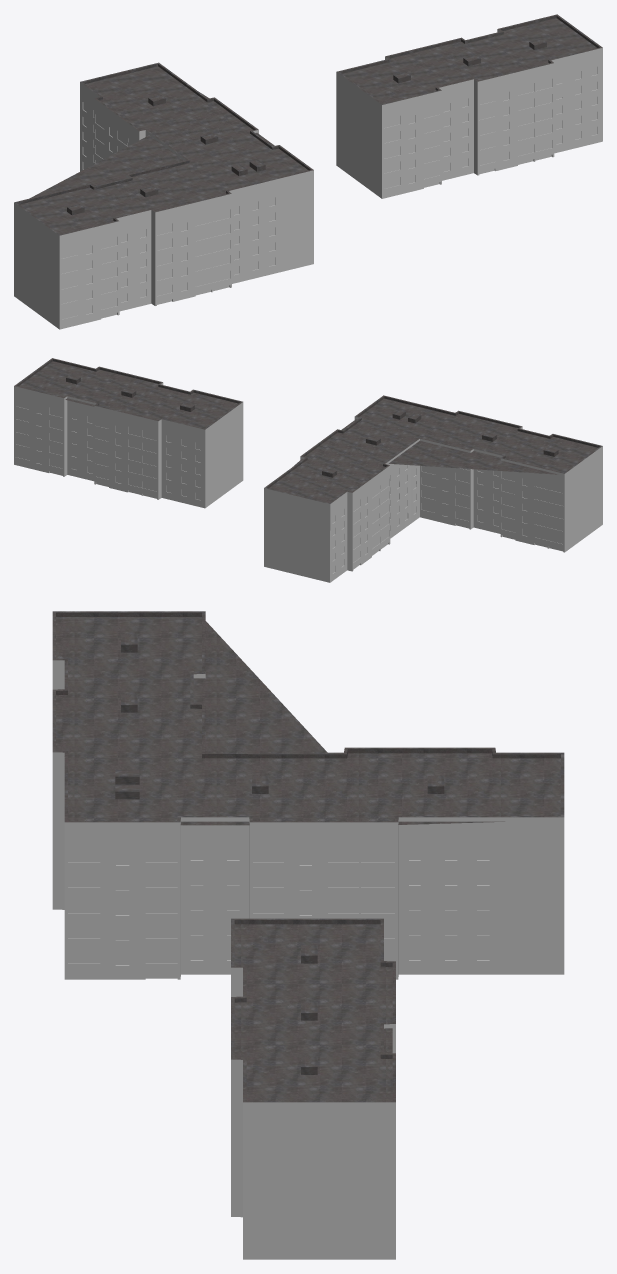
Rendered from panelkaslow.obj.
The picture shows the model from 3 angles, top to bottom: view 1: azimuth 30°, elevation 25°; view 2: azimuth 150°, elevation 25°; view 3: azimuth 270°, elevation 25°; orthographic projection. The views are drawn at different scales.
Visible parts, largest first — view 1: page.006, page.012; view 2: page.006, page.012; view 3: page.006, page.012.
Boxes of the visible parts, x1,y1,x2,y2 form: page.006: [14, 62, 313, 329]; page.012: [336, 14, 602, 198]; page.006: [264, 395, 602, 582]; page.012: [14, 358, 243, 508]; page.006: [52, 611, 564, 979]; page.012: [231, 918, 395, 1259].
Size of the model in its own units: 6.61 by 1.01 by 2.91.
